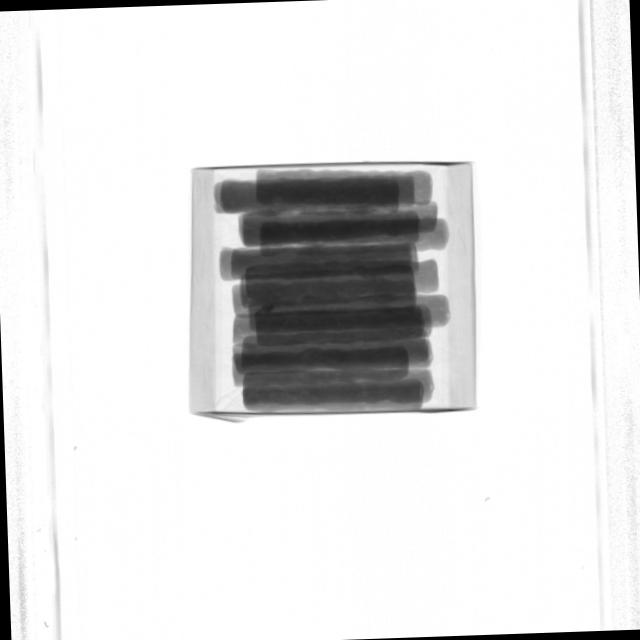ym: (254, 303, 276, 315)
